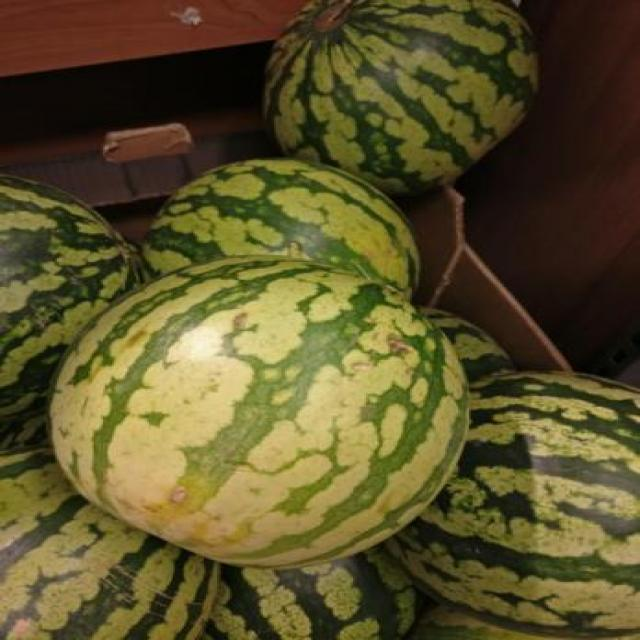Watermelon: (51, 256, 471, 570), (384, 368, 638, 638), (265, 0, 541, 193), (138, 160, 421, 302), (0, 175, 136, 397)
